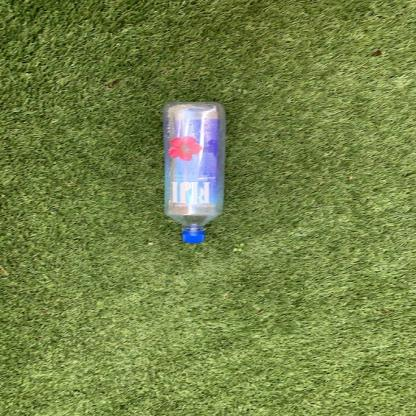trash: (162, 101, 226, 242)
